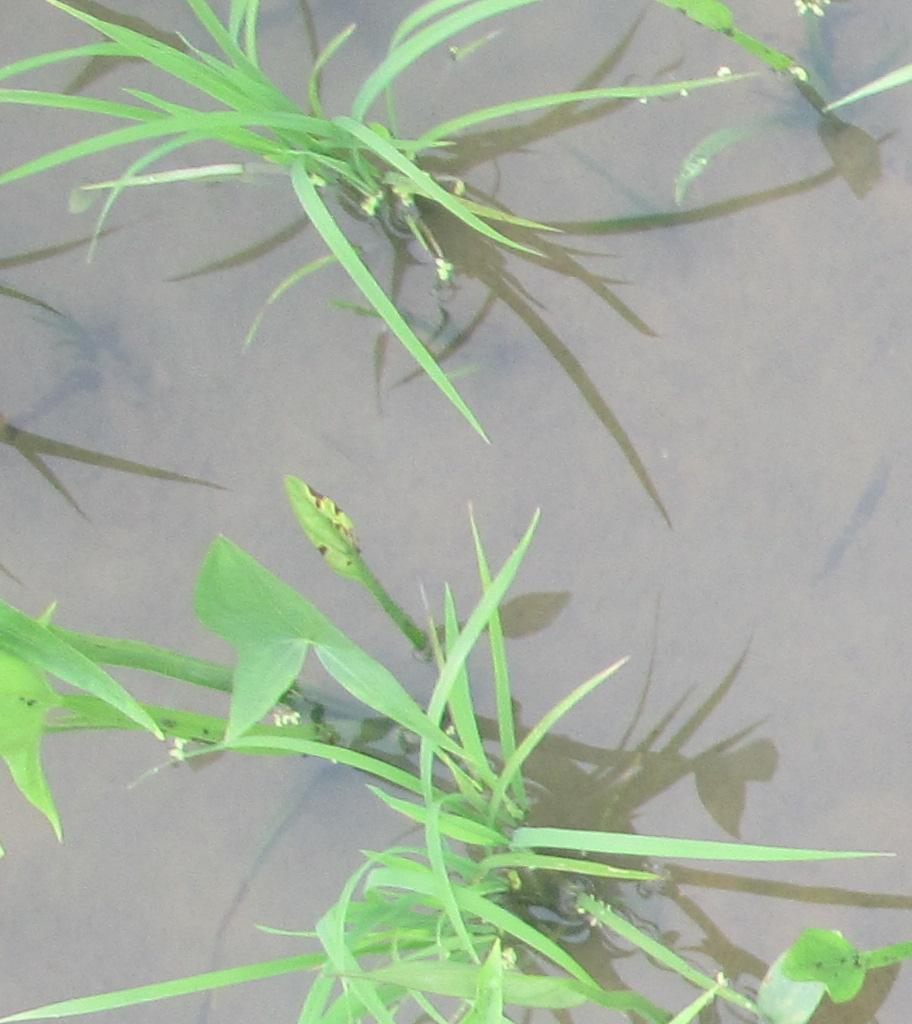Weed: (178, 538, 360, 735), (771, 914, 900, 1011)
